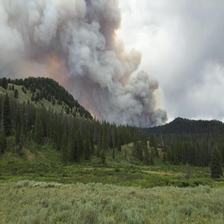fire: (46, 46, 163, 128)
